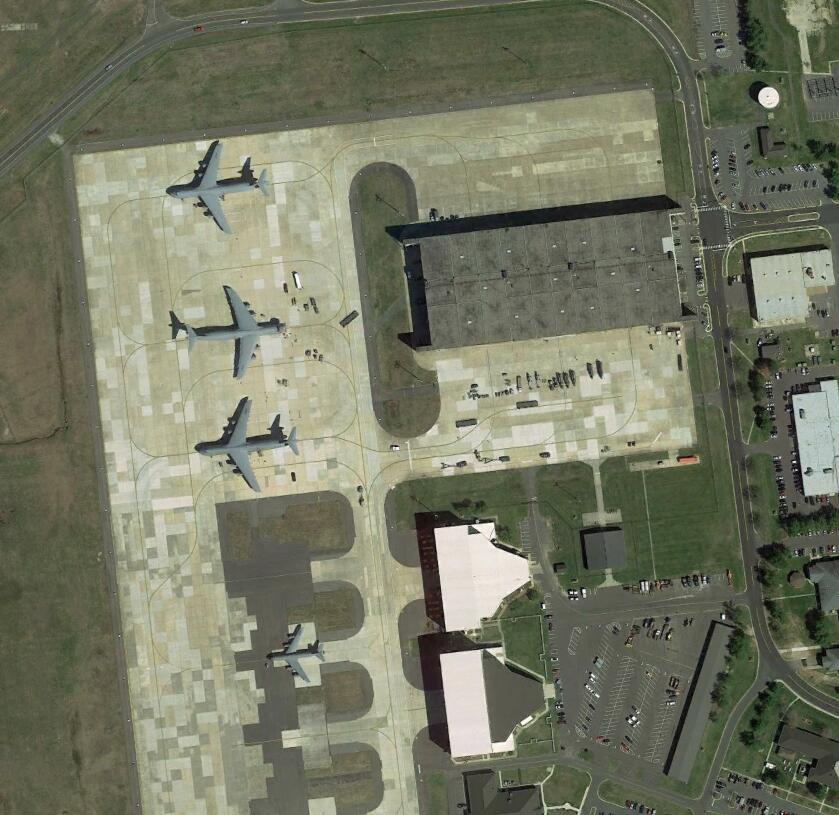A14: (268, 623, 327, 687)
A4: (197, 397, 303, 496), (181, 285, 289, 381), (169, 140, 272, 238)
